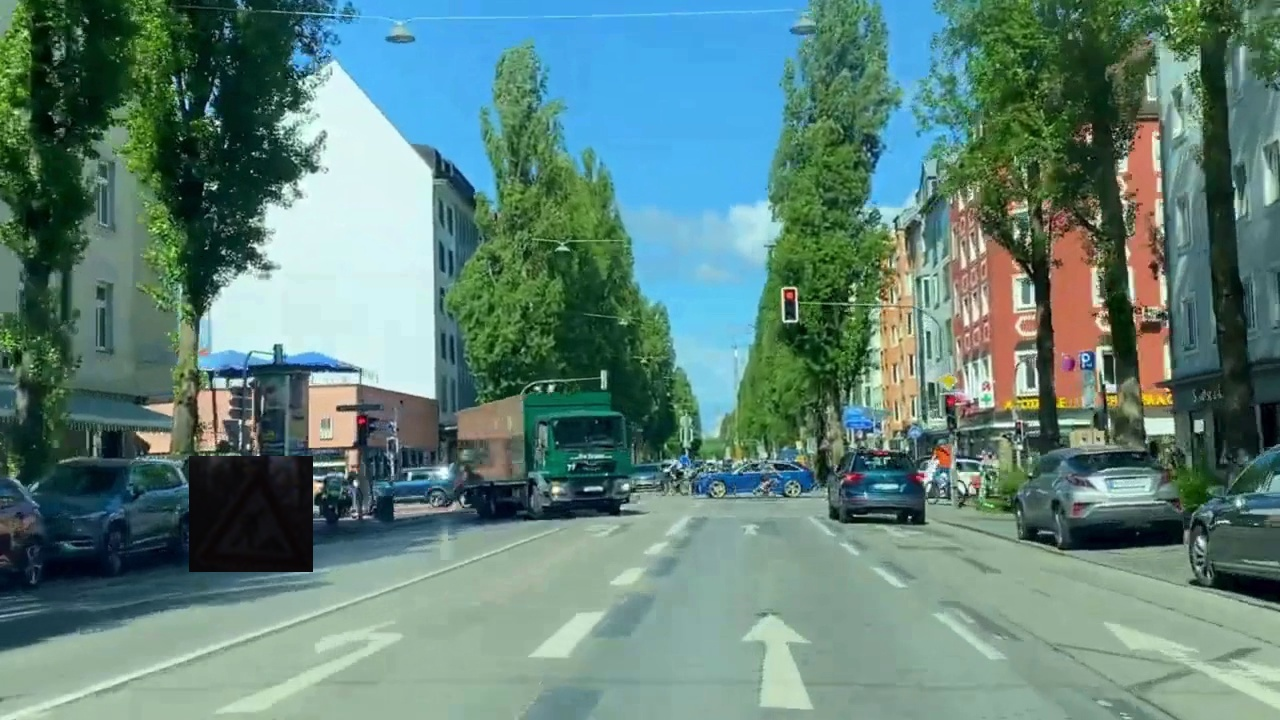Road work: (189, 456, 313, 572)
